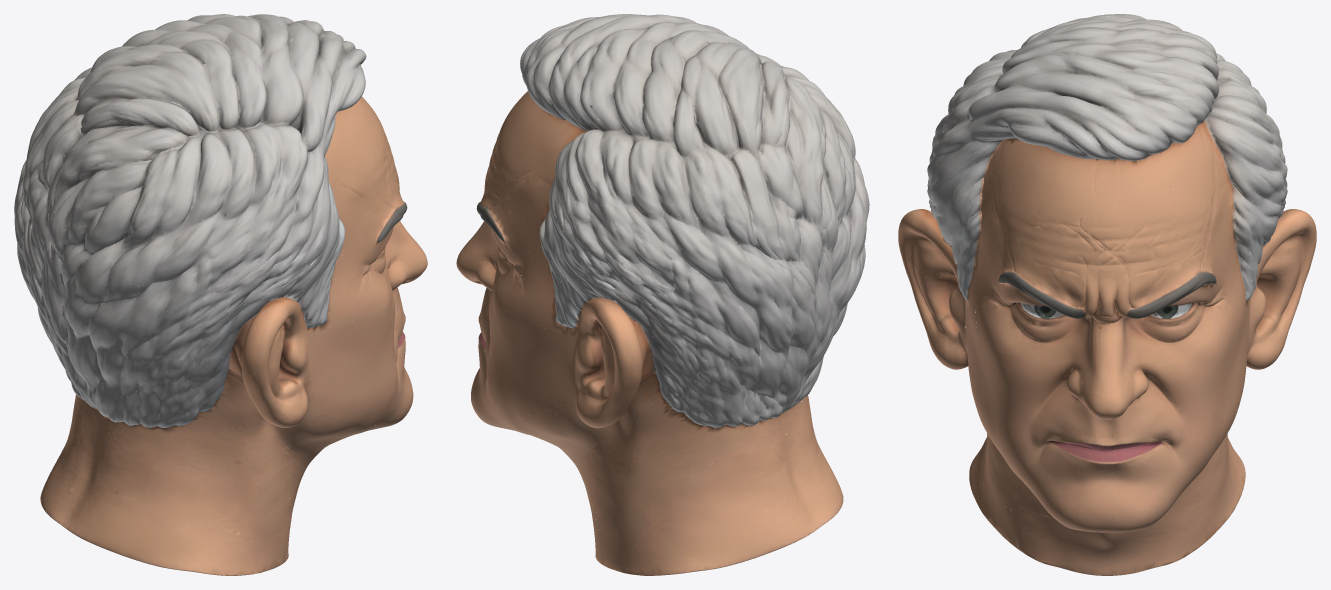
The model's file is net.glb.
3 views of the same model, side by side, from view 1: azimuth 30°, elevation 25°; view 2: azimuth 150°, elevation 25°; view 3: azimuth 270°, elevation 25° (orthographic).
Visible parts, largest first — view 1: tripo_node_bef4c189-e04f-4fd7-980a-dc4ef28d0969; view 2: tripo_node_bef4c189-e04f-4fd7-980a-dc4ef28d0969; view 3: tripo_node_bef4c189-e04f-4fd7-980a-dc4ef28d0969.
Part boxes in pixels (bbox=[...]): tripo_node_bef4c189-e04f-4fd7-980a-dc4ef28d0969: bbox=[14, 14, 427, 575]; tripo_node_bef4c189-e04f-4fd7-980a-dc4ef28d0969: bbox=[456, 14, 869, 575]; tripo_node_bef4c189-e04f-4fd7-980a-dc4ef28d0969: bbox=[898, 14, 1316, 575].
Bounding box in the file's own units: 0.2309 × 0.3 × 0.2213.
Materials: 1 (1 with a texture image).
